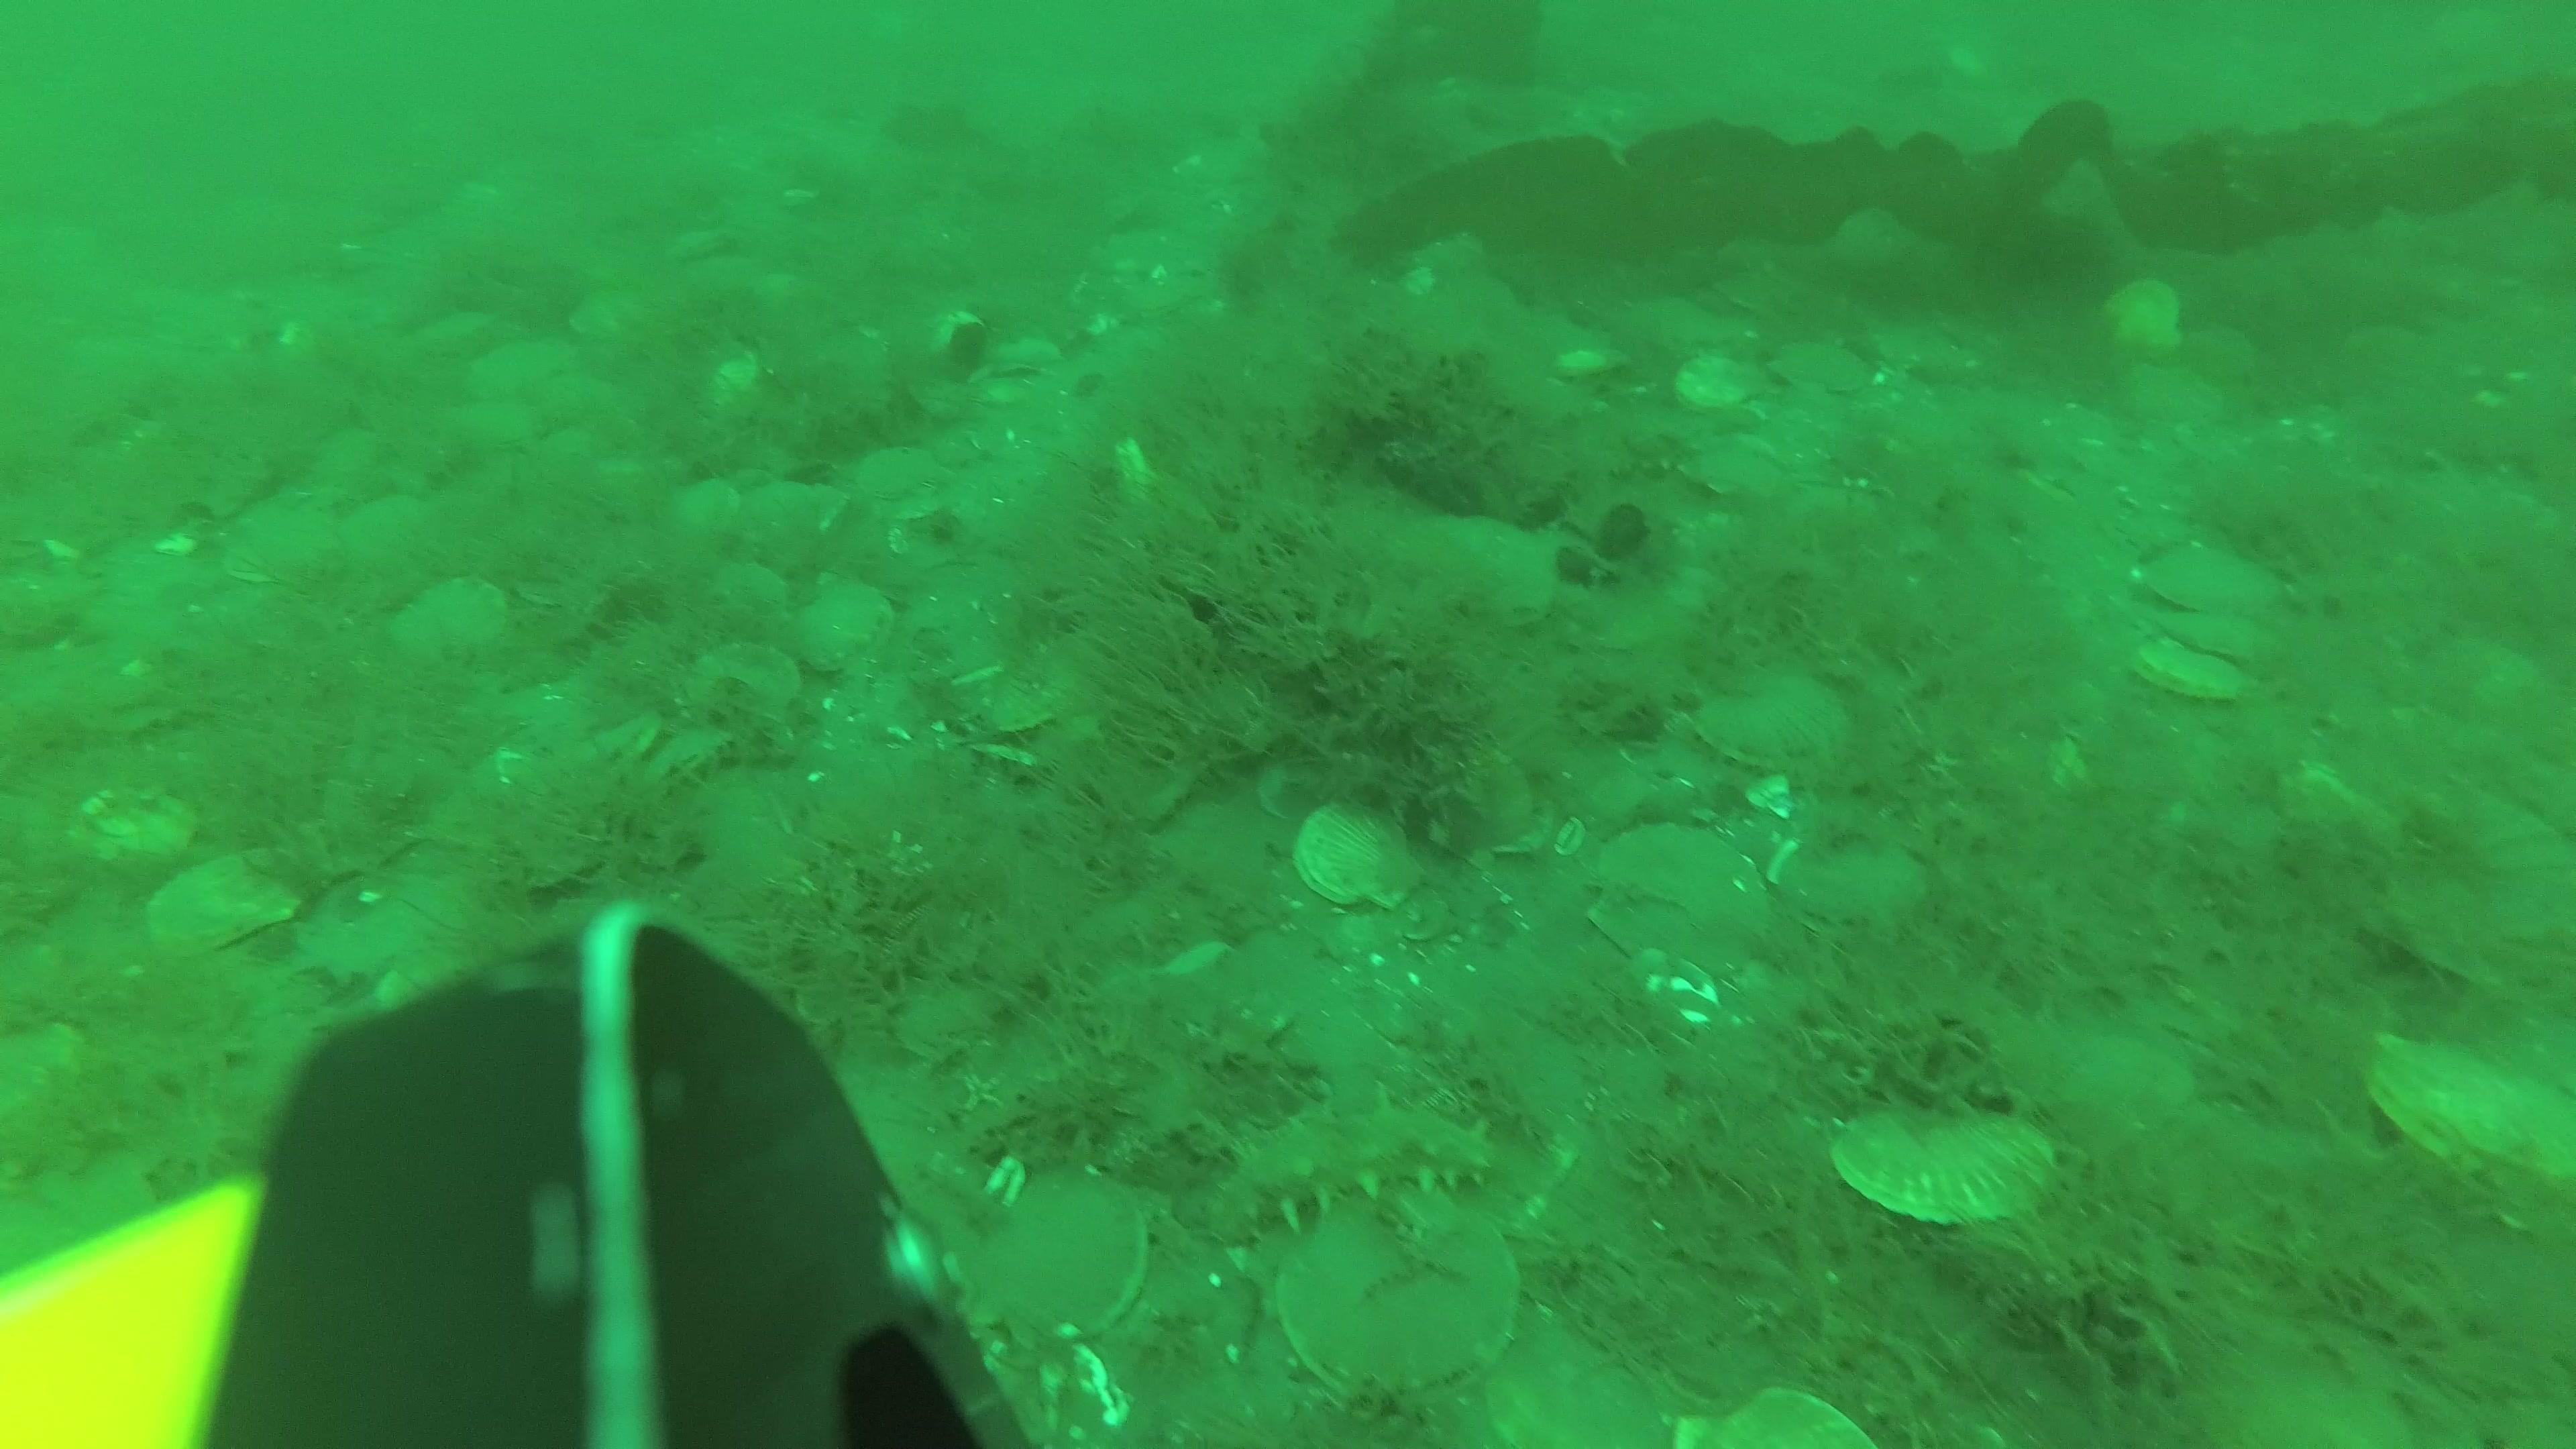holothurian: (1192, 1097, 1504, 1242)
scallop: (1284, 1201, 1523, 1380), (2189, 1304, 2472, 1449), (2369, 1021, 2576, 1207), (1421, 1311, 1652, 1449), (980, 1166, 1150, 1346), (1833, 1097, 2051, 1226), (1599, 832, 1767, 989), (145, 846, 295, 964), (1698, 660, 1849, 771), (1428, 504, 1555, 633), (1297, 782, 1424, 909), (1408, 729, 1536, 851), (1785, 833, 1916, 932), (64, 778, 196, 872), (219, 490, 338, 594), (777, 577, 890, 671), (683, 630, 801, 718), (389, 577, 497, 663), (2141, 538, 2265, 612), (2135, 630, 2233, 708), (1668, 350, 1776, 416), (1778, 329, 1872, 403), (2102, 283, 2192, 352), (2160, 602, 2259, 662)
